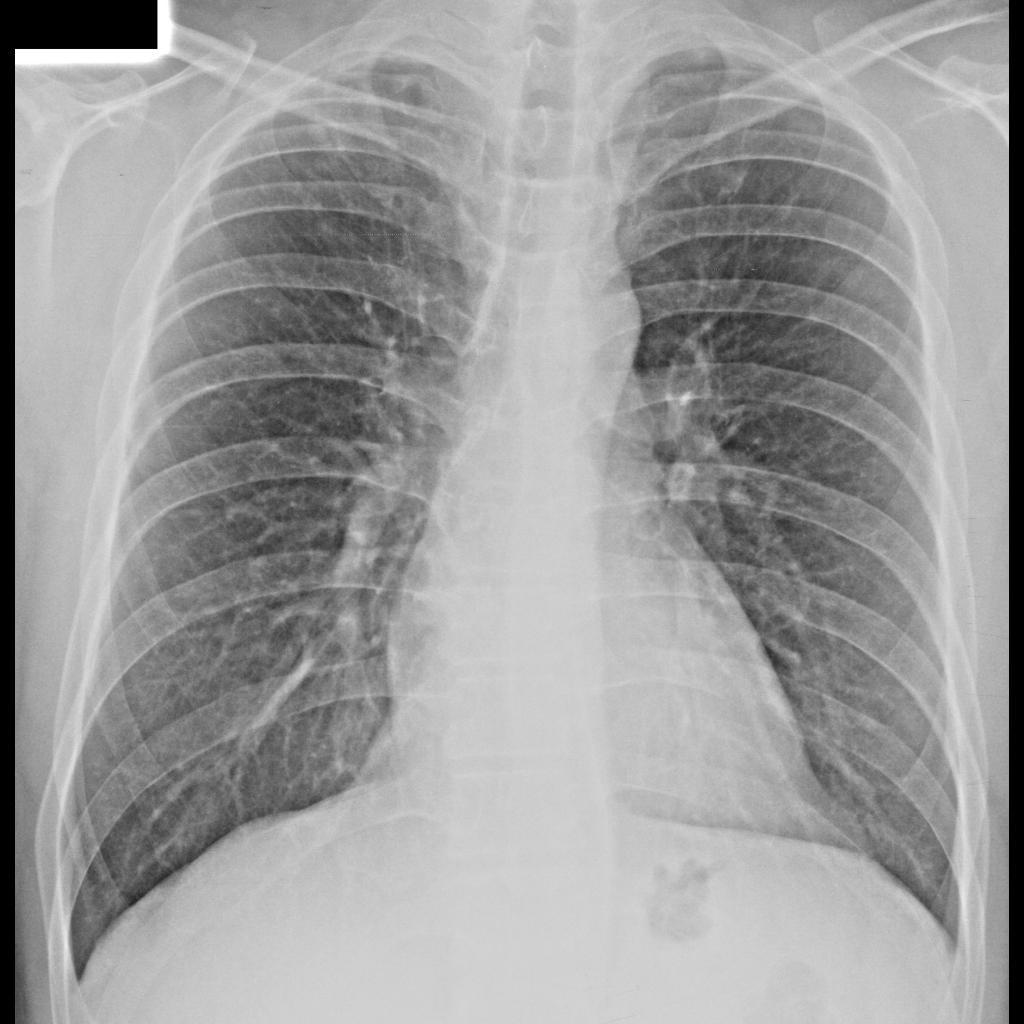Nodule: (308, 120, 348, 159)
